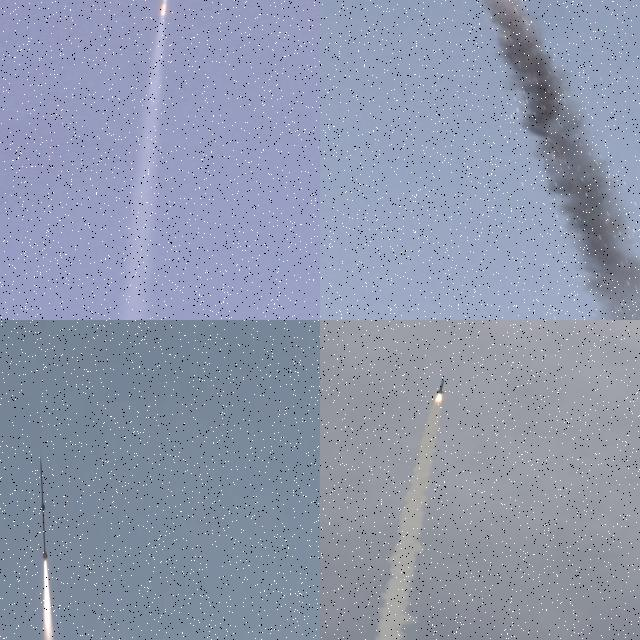Rocket: (40, 456, 48, 562), (436, 379, 445, 394)
